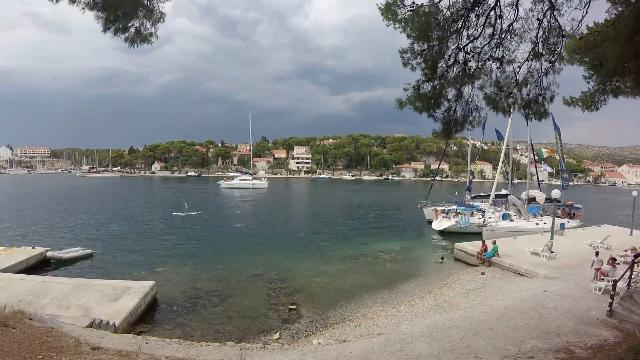Freighter: (77, 164, 125, 180)
Sailboat: (213, 170, 273, 194)
